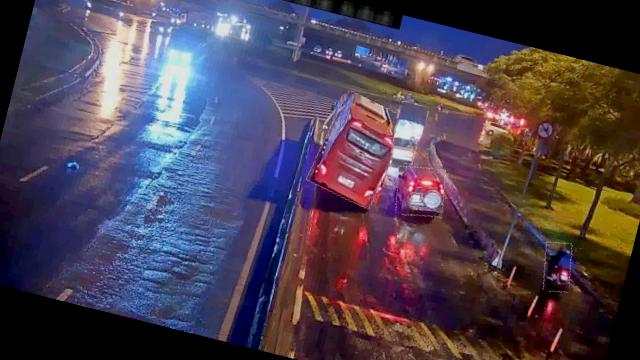Bike: (537, 239, 577, 295)
Bus: (308, 90, 410, 211)
Car: (390, 160, 450, 222), (389, 134, 419, 166)
Truck: (392, 100, 430, 142)
